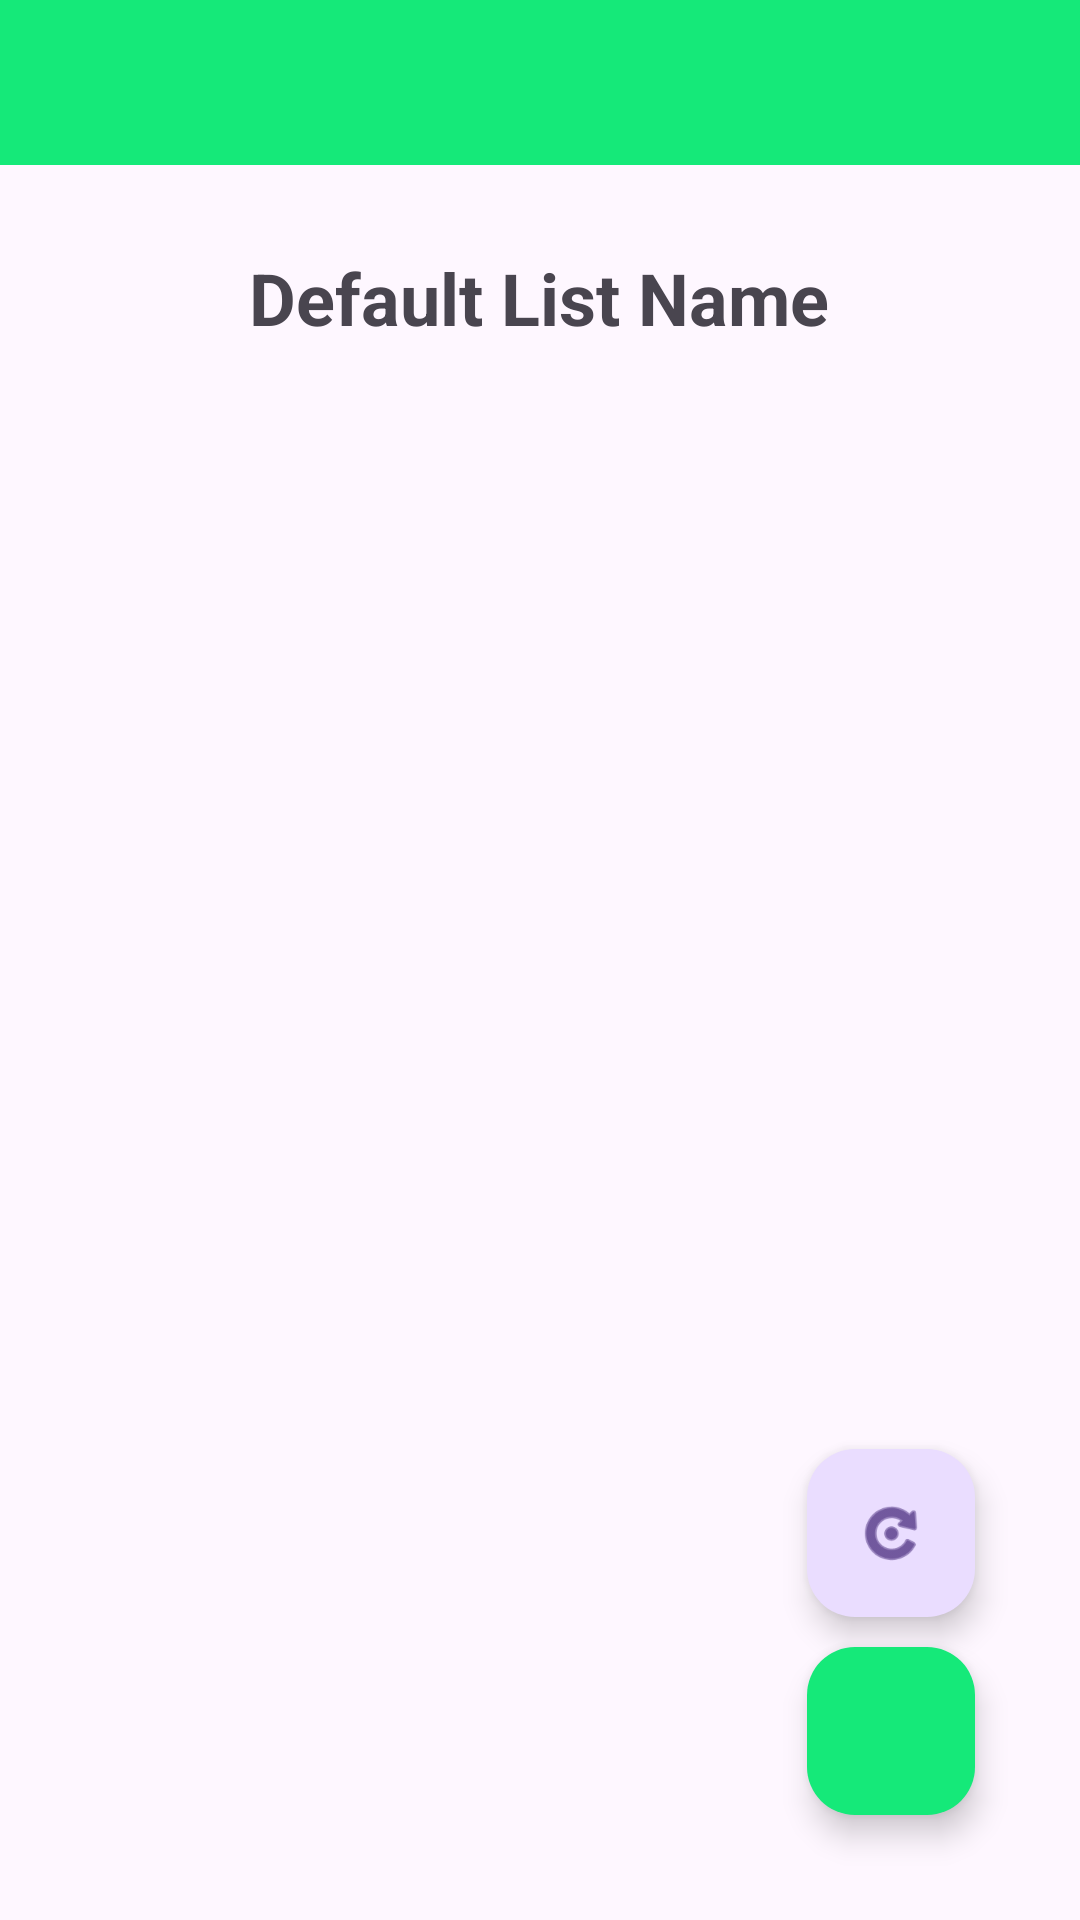

Icon bounding boxes for this 1080 × 1920 phone screenshot, format {"left": x1, "top": y1, "right": x2, "bottom": y2}:
rotate: {"left": 807, "top": 1449, "right": 975, "bottom": 1617}
